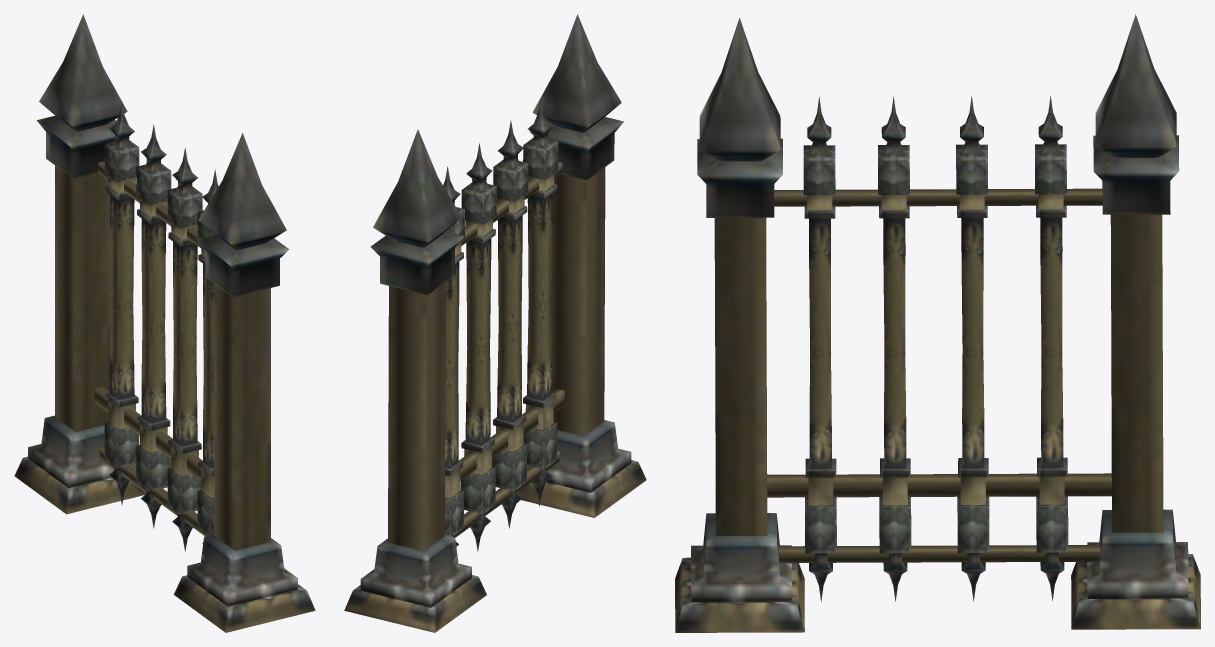
File: S_Build_West028.FBX
The picture shows the model from 3 angles, left to right: view 1: azimuth 30°, elevation 25°; view 2: azimuth 150°, elevation 25°; view 3: azimuth 270°, elevation 25°; orthographic projection. The views are drawn at different scales.
Visible parts, largest first — view 1: S_Build_West028; view 2: S_Build_West028; view 3: S_Build_West028.
Boxes of the visible parts, bbox=[...] form: S_Build_West028: bbox=[14, 14, 315, 632]; S_Build_West028: bbox=[344, 14, 646, 632]; S_Build_West028: bbox=[675, 14, 1200, 632].
Size of the model in its own units: 111 by 448 by 555.
